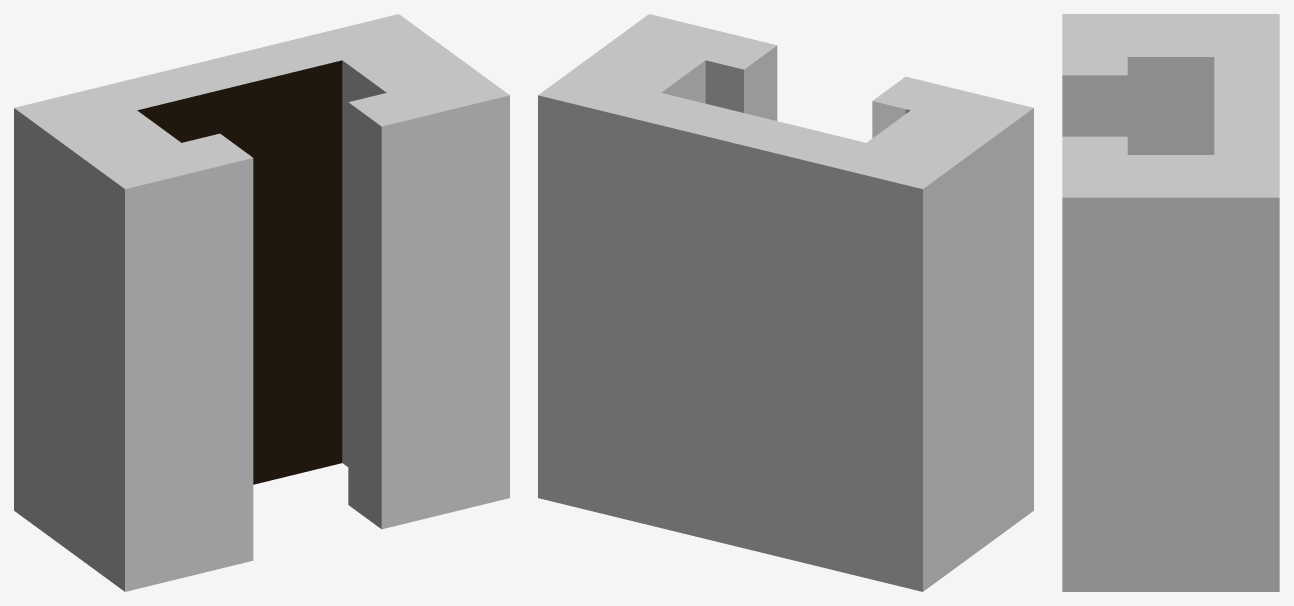
The model's file is block_double_wall.fbx.
3 views of the same model, side by side, from view 1: azimuth 30°, elevation 25°; view 2: azimuth 150°, elevation 25°; view 3: azimuth 270°, elevation 25° (orthographic). The views are drawn at different scales.
Parts seen in each view (by area): view 1: block_double_wall; view 2: block_double_wall; view 3: block_double_wall.
Part boxes in pixels (box(x1,y1,x2,y2)): block_double_wall: box(14, 14, 509, 591); block_double_wall: box(538, 14, 1033, 591); block_double_wall: box(1062, 14, 1279, 591).
Bounding box in the file's own units: 0.2 × 0.2 × 0.1.
